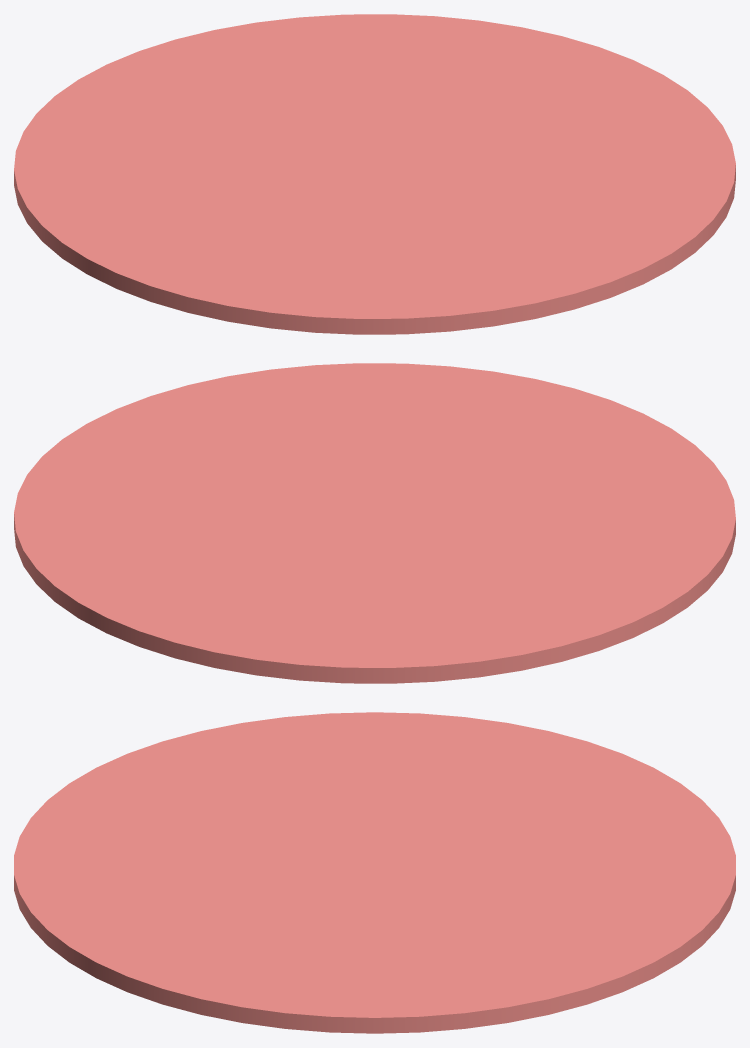
File: Circle_Switch.fbx
3 views of the same model, one above another, from view 1: azimuth 30°, elevation 25°; view 2: azimuth 150°, elevation 25°; view 3: azimuth 270°, elevation 25° (orthographic).
Visible parts, largest first — view 1: pCylinder1; view 2: pCylinder1; view 3: pCylinder1.
Boxes of the visible parts, left/top/right/bottom form: pCylinder1: left=14, top=14, right=735, bottom=334; pCylinder1: left=14, top=363, right=735, bottom=683; pCylinder1: left=14, top=712, right=735, bottom=1033.
Size of the model in its own units: 2.5 by 0.06 by 2.5.
